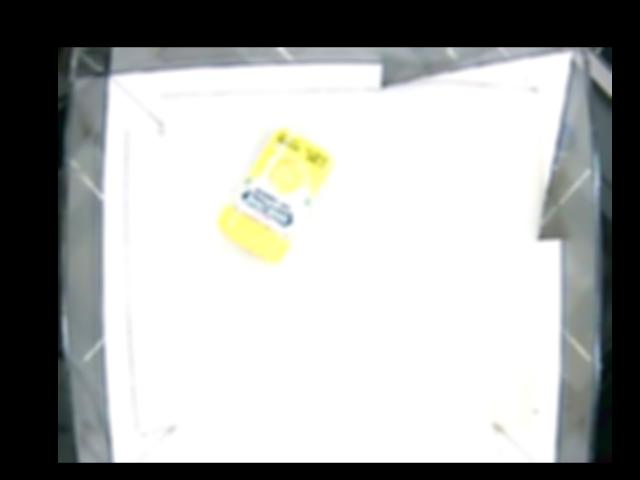Bottle: (221, 126, 334, 267)
